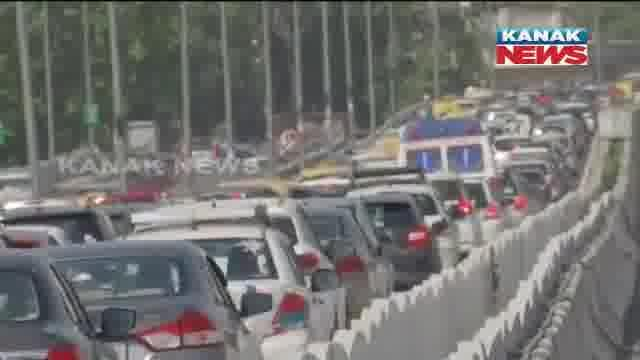AMBULANCE: (389, 121, 488, 169)
